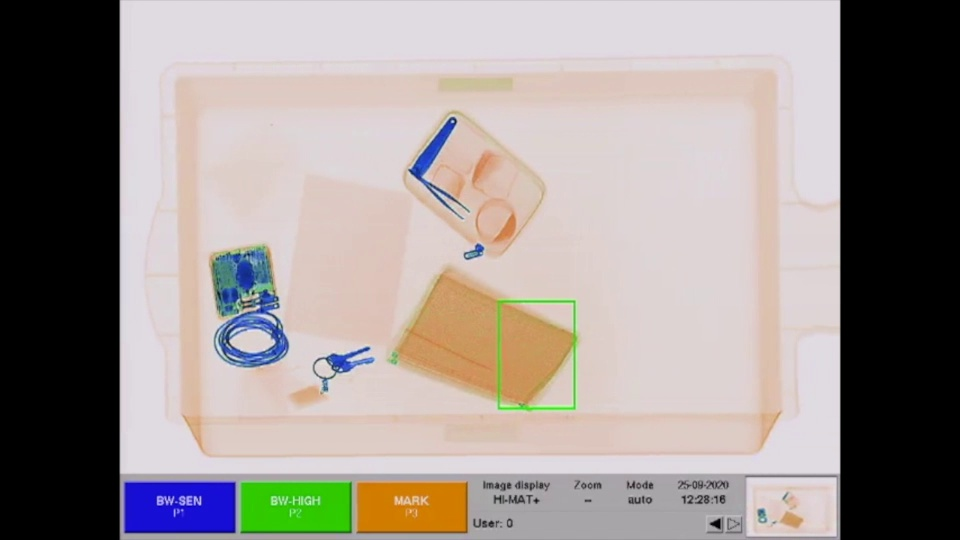tray_img: (139, 48, 814, 459)
